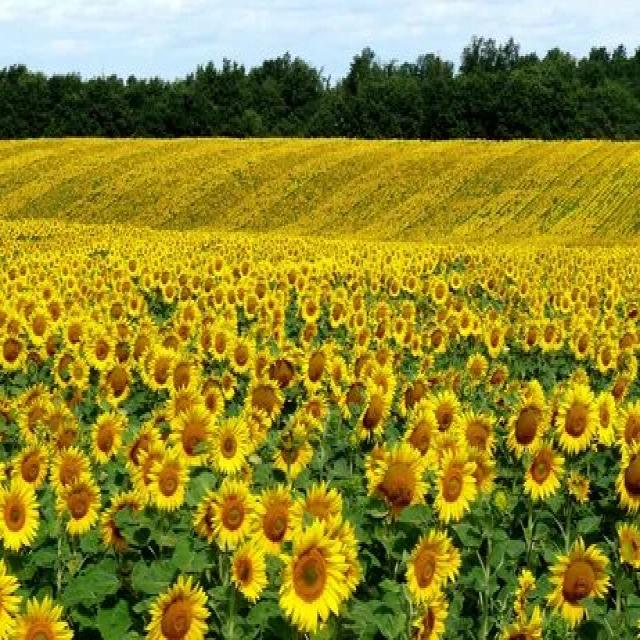sunflower: (274, 514, 349, 634), (550, 532, 616, 626), (144, 568, 213, 640), (403, 522, 456, 608), (432, 442, 480, 534), (554, 376, 599, 464), (206, 476, 256, 546), (52, 472, 106, 536), (145, 446, 194, 516), (0, 478, 42, 558), (504, 386, 550, 458), (210, 414, 255, 478), (242, 372, 282, 430), (299, 344, 335, 390), (83, 326, 118, 372), (431, 275, 449, 307)
